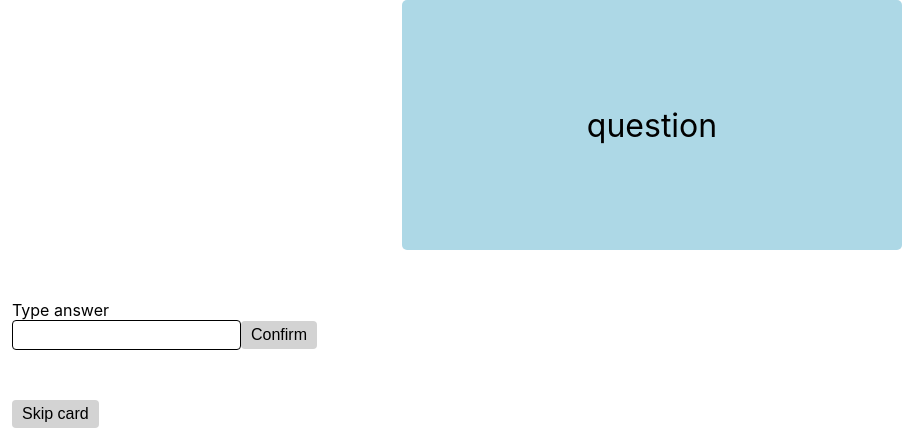
Test: AppPracticing › correctly renders card when incorrect answer given
Type "green" into the field. click: (126, 335)
box: [12,320,241,350]
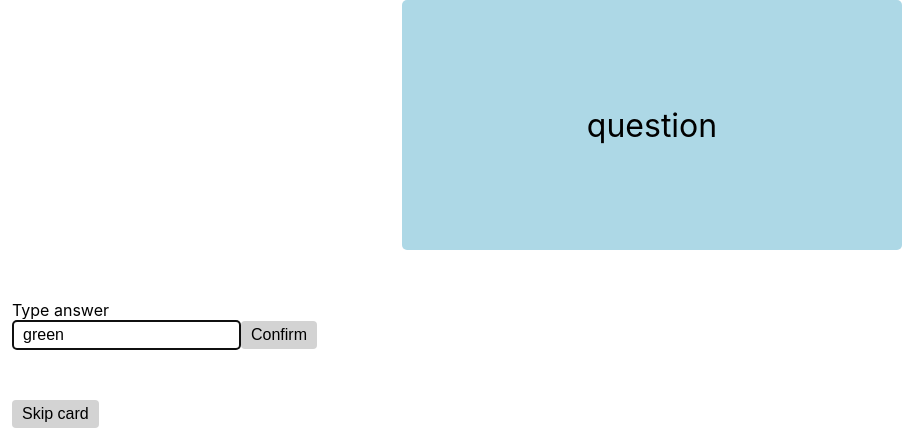
Click the button "Confirm". click: (279, 335)
box: [241,321,317,349]
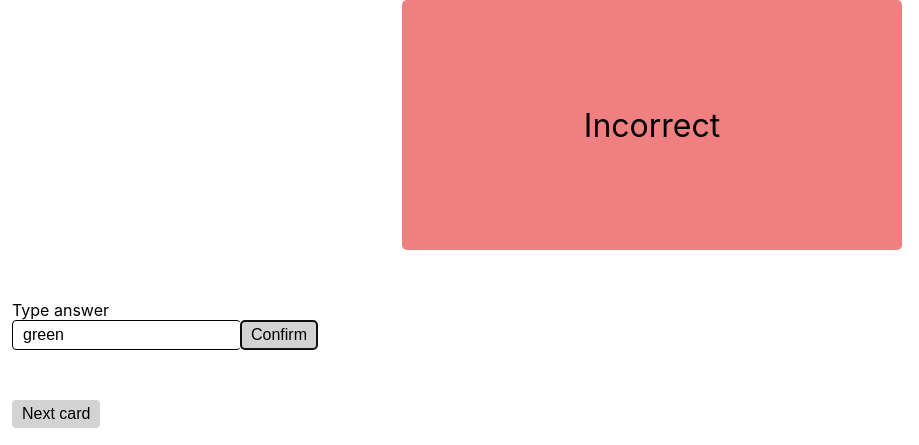
Now the text "Incorrect" is shown, box [402,0,902,250]
